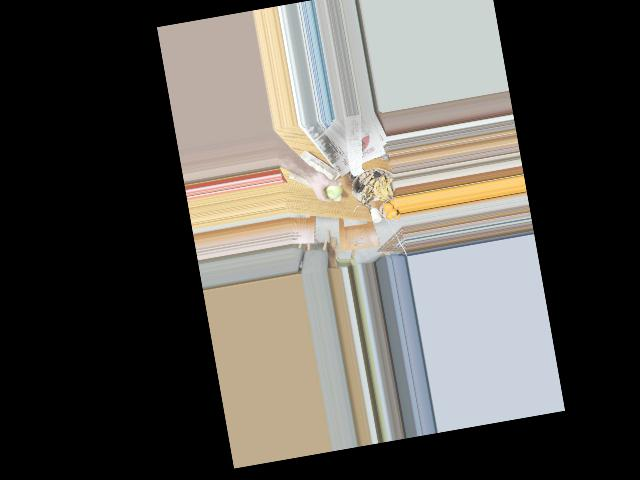apple: (319, 179, 344, 203)
